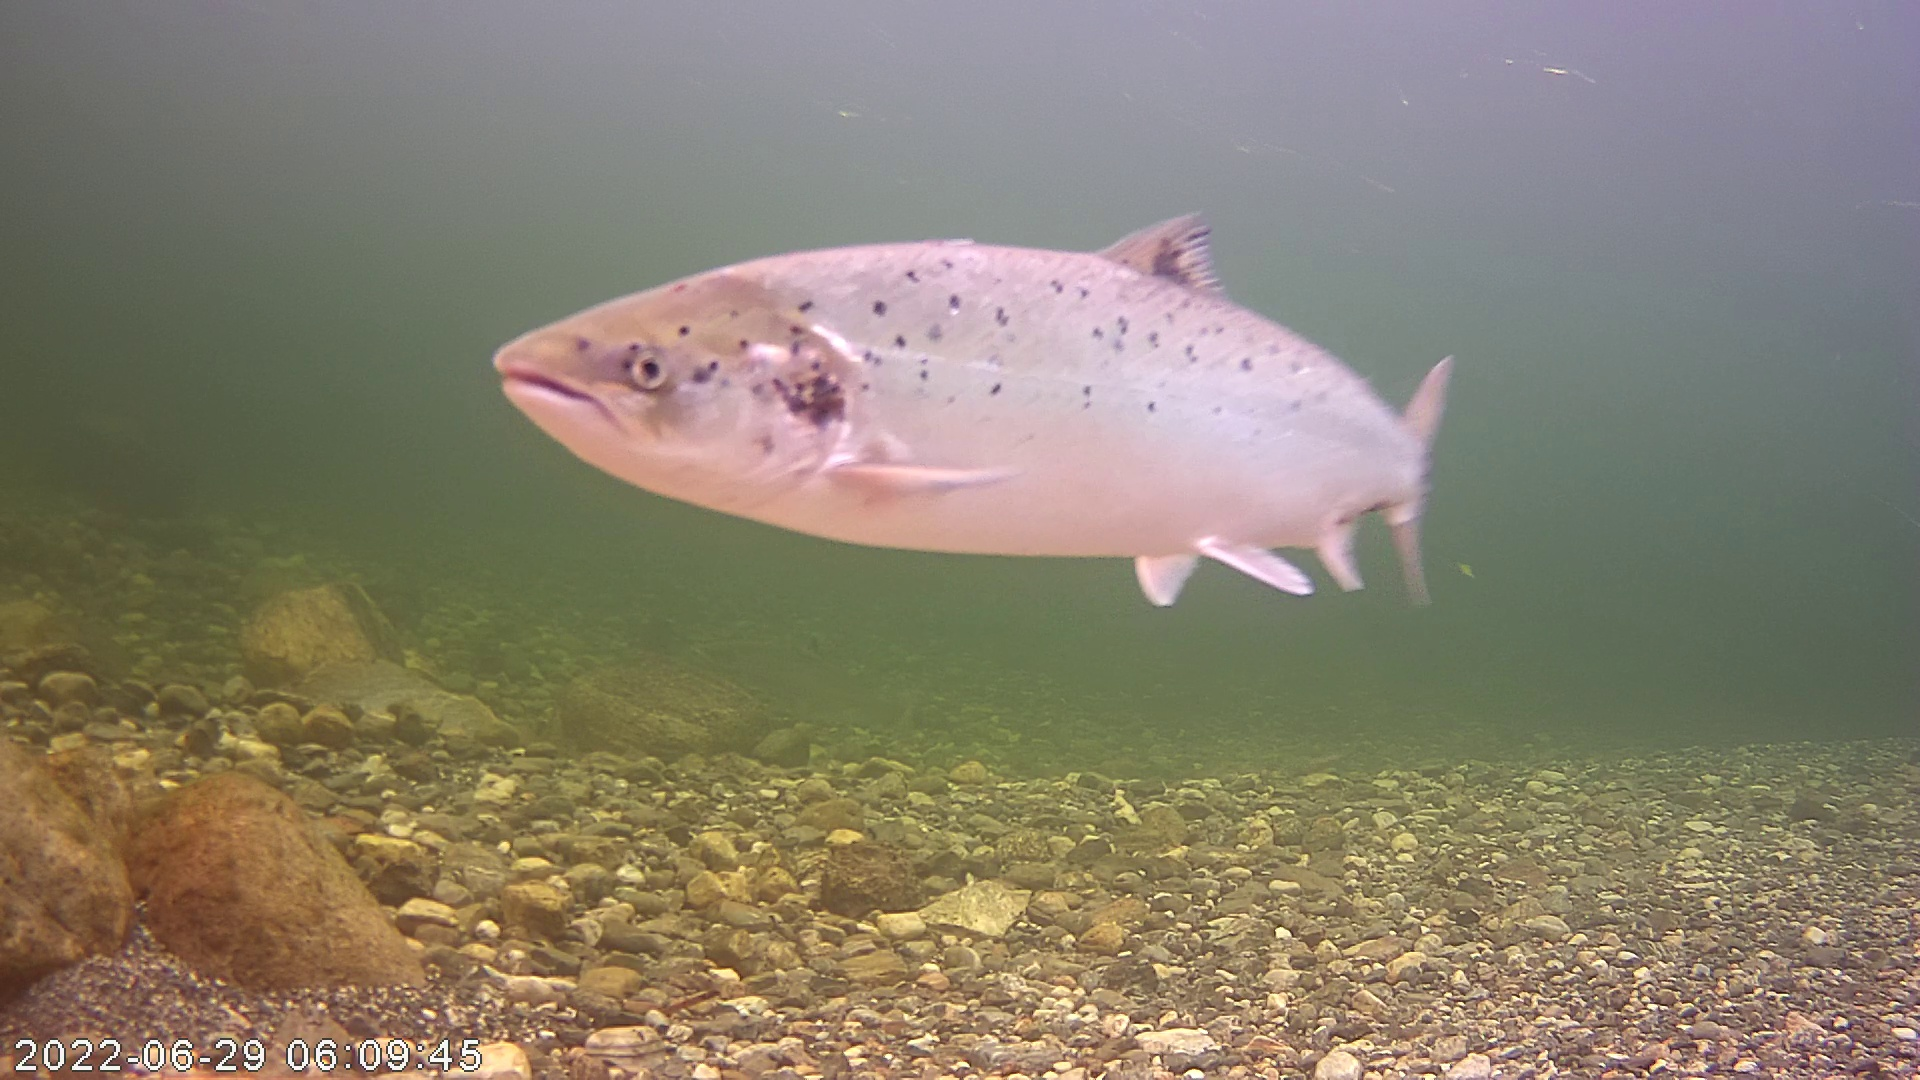salmon: (483, 71, 1460, 593)
